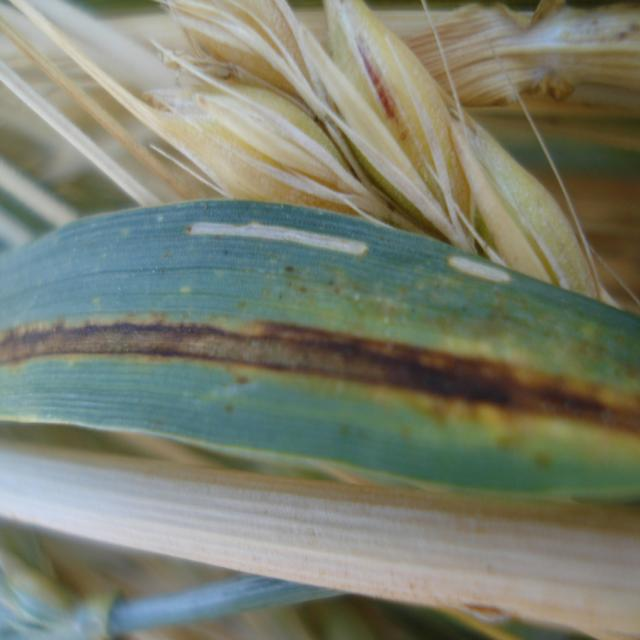wheat-stemrust: (0, 271, 640, 449)
